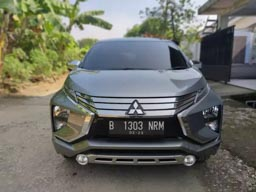plat: (107, 118, 164, 131)
